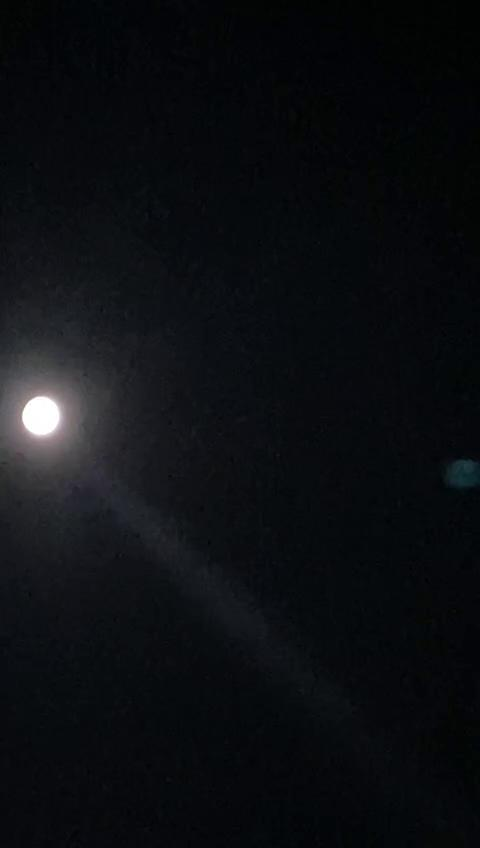moon: (13, 379, 82, 440)
